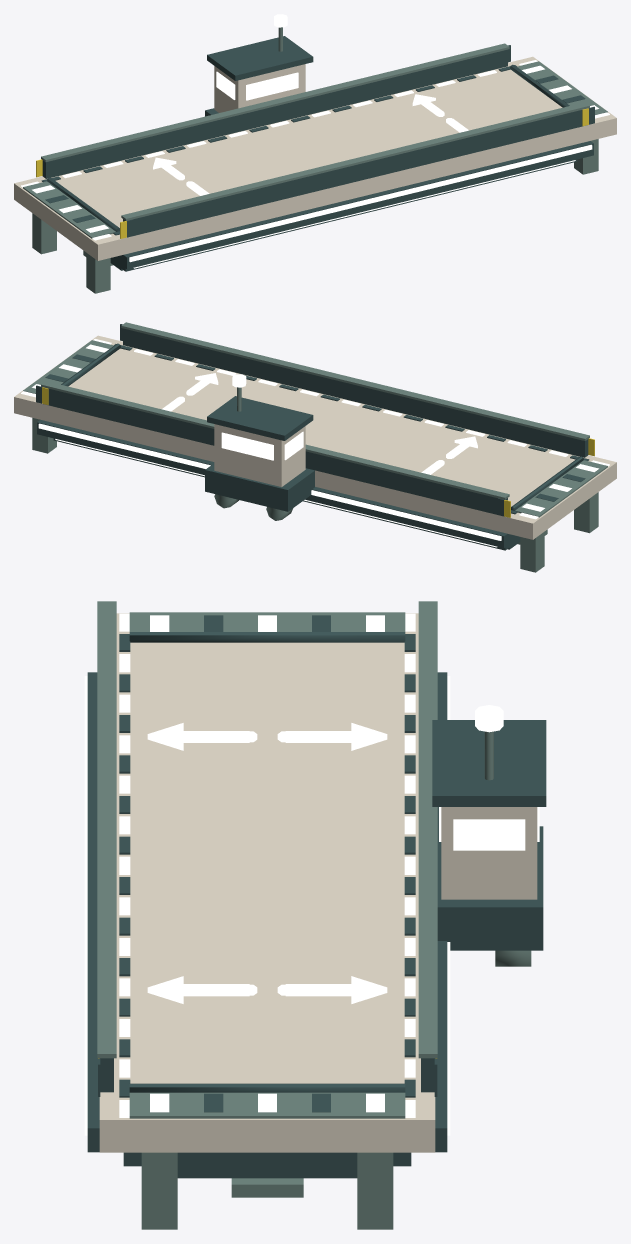
File: Deck_Ferry_v4_10_lab.glb
The picture shows the model from 3 angles, top to bottom: view 1: azimuth 30°, elevation 25°; view 2: azimuth 150°, elevation 25°; view 3: azimuth 270°, elevation 25°; orthographic projection. The views are drawn at different scales.
Visible parts, largest first — view 1: Deck_Ferry_v4_10; view 2: Deck_Ferry_v4_10; view 3: Deck_Ferry_v4_10.
Part boxes in pixels (x1,y1,x2,y2): Deck_Ferry_v4_10: (14,14,616,293); Deck_Ferry_v4_10: (14,322,616,572); Deck_Ferry_v4_10: (84,601,546,1229).
Bounding box in the file's own units: 10 × 2.7 × 3.85.
